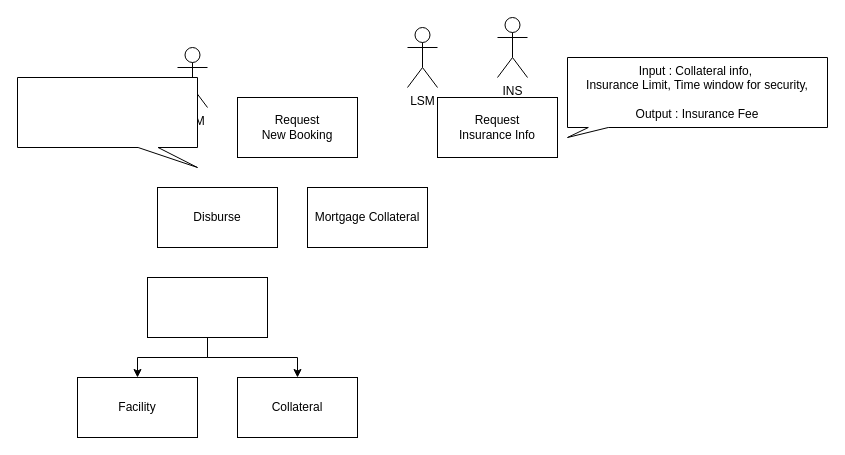
Image size: 845x455. Some labels were removed from this diagram. Here are the shapes that lost their labels. From the top down, the centre of each, then its label:
At (x=107, y=122): "Case : A - Customer alread y has insurance, Case : B - Insurance with KKP".
At (x=207, y=307): "CA".
